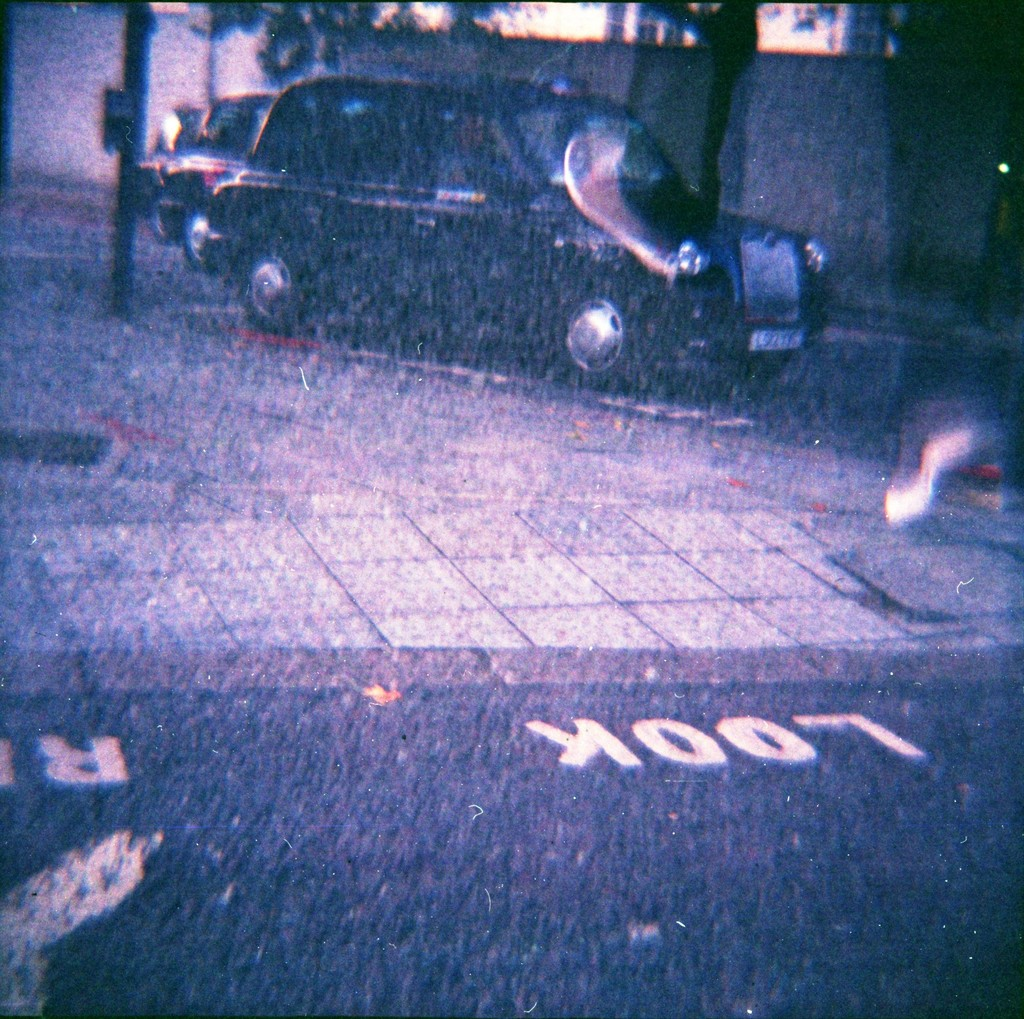Car: (199, 69, 837, 392), (165, 83, 279, 264), (131, 101, 215, 237)
